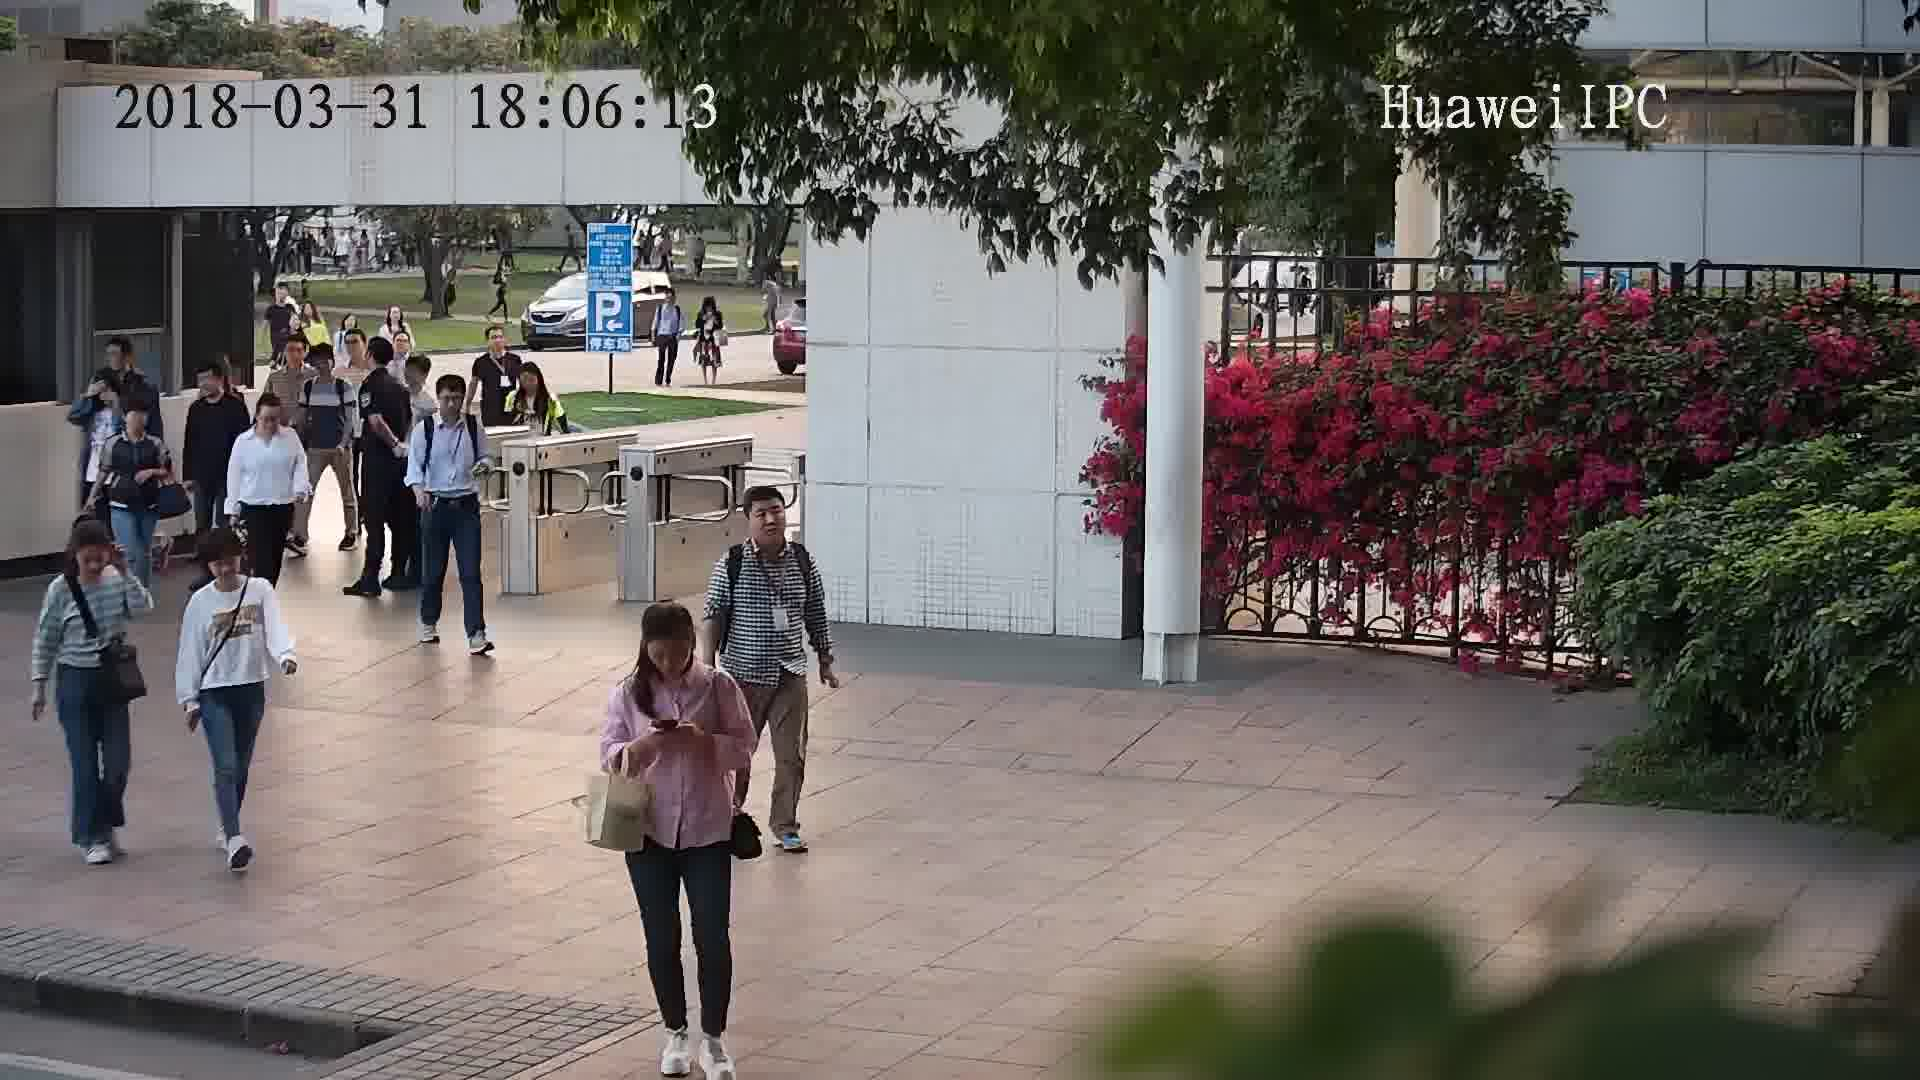face: (640, 634, 693, 679), (745, 497, 792, 544)
person: (607, 601, 741, 709), (716, 481, 814, 579), (46, 512, 140, 600), (182, 527, 275, 614), (237, 392, 302, 455), (421, 371, 478, 440), (190, 356, 248, 417), (109, 399, 166, 455), (101, 334, 157, 390), (304, 341, 353, 399), (362, 336, 407, 397), (510, 360, 562, 410), (271, 331, 319, 382), (474, 320, 520, 373), (399, 353, 442, 409), (380, 325, 420, 369), (292, 297, 331, 331), (277, 311, 312, 348), (377, 302, 413, 334), (269, 278, 298, 312), (691, 292, 722, 320), (658, 283, 682, 314)
